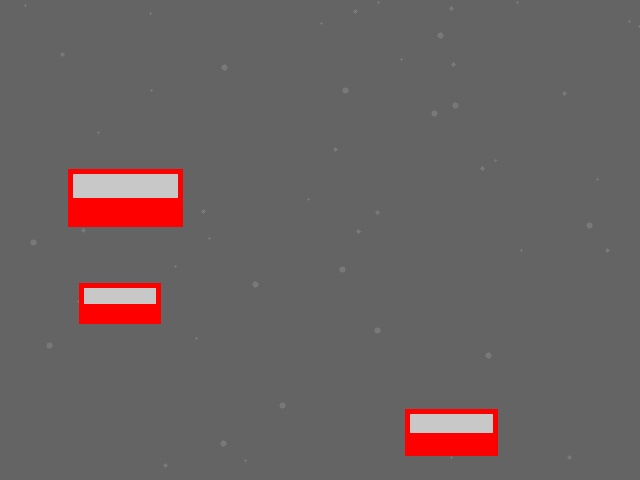car: (68, 169, 182, 226), (405, 409, 497, 455), (79, 283, 160, 323)
